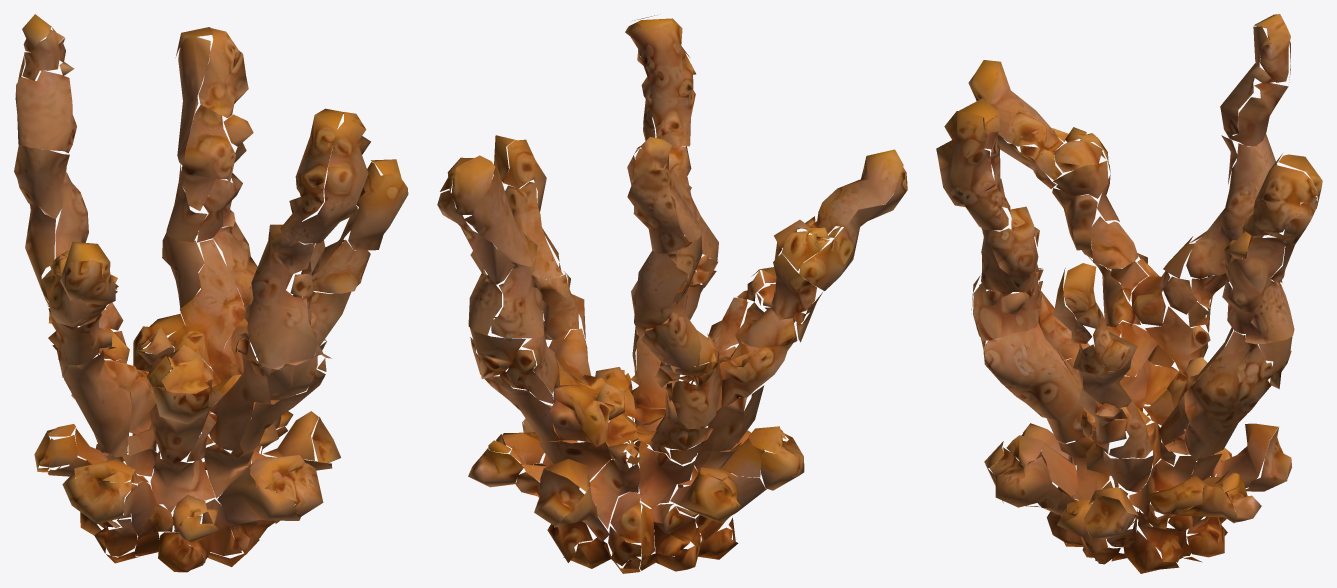
File: sponge_rope.glb
3 views of the same model, side by side, from view 1: azimuth 30°, elevation 25°; view 2: azimuth 150°, elevation 25°; view 3: azimuth 270°, elevation 25° (orthographic). The views are drawn at different scales.
Parts seen in each view (by area): view 1: tripo_node_a15e1585-e675-43ee-9a00-13b1e72c6073; view 2: tripo_node_a15e1585-e675-43ee-9a00-13b1e72c6073; view 3: tripo_node_a15e1585-e675-43ee-9a00-13b1e72c6073.
Part boxes in pixels (left/top/right/bottom): tripo_node_a15e1585-e675-43ee-9a00-13b1e72c6073: left=14, top=14, right=408, bottom=572; tripo_node_a15e1585-e675-43ee-9a00-13b1e72c6073: left=437, top=15, right=907, bottom=573; tripo_node_a15e1585-e675-43ee-9a00-13b1e72c6073: left=936, top=14, right=1322, bottom=573.
Size of the model in its own units: 0.8048 by 1 by 0.7131.
Materials: 1 (1 with a texture image).
